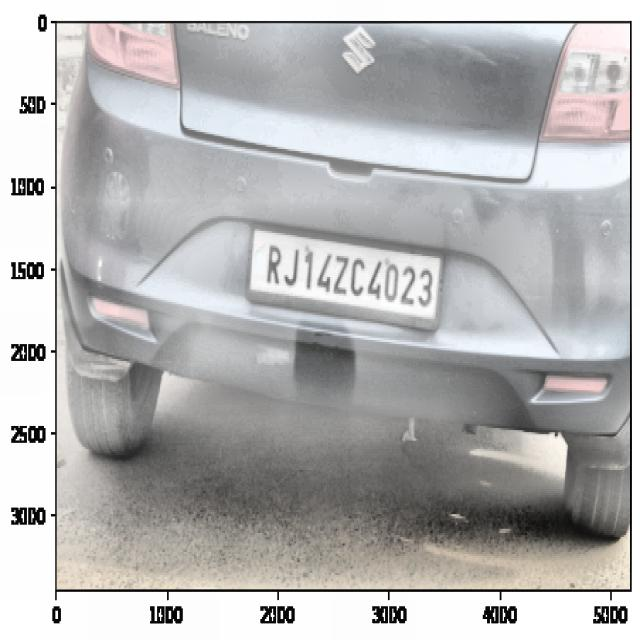license_plate: (262, 237, 439, 315)
